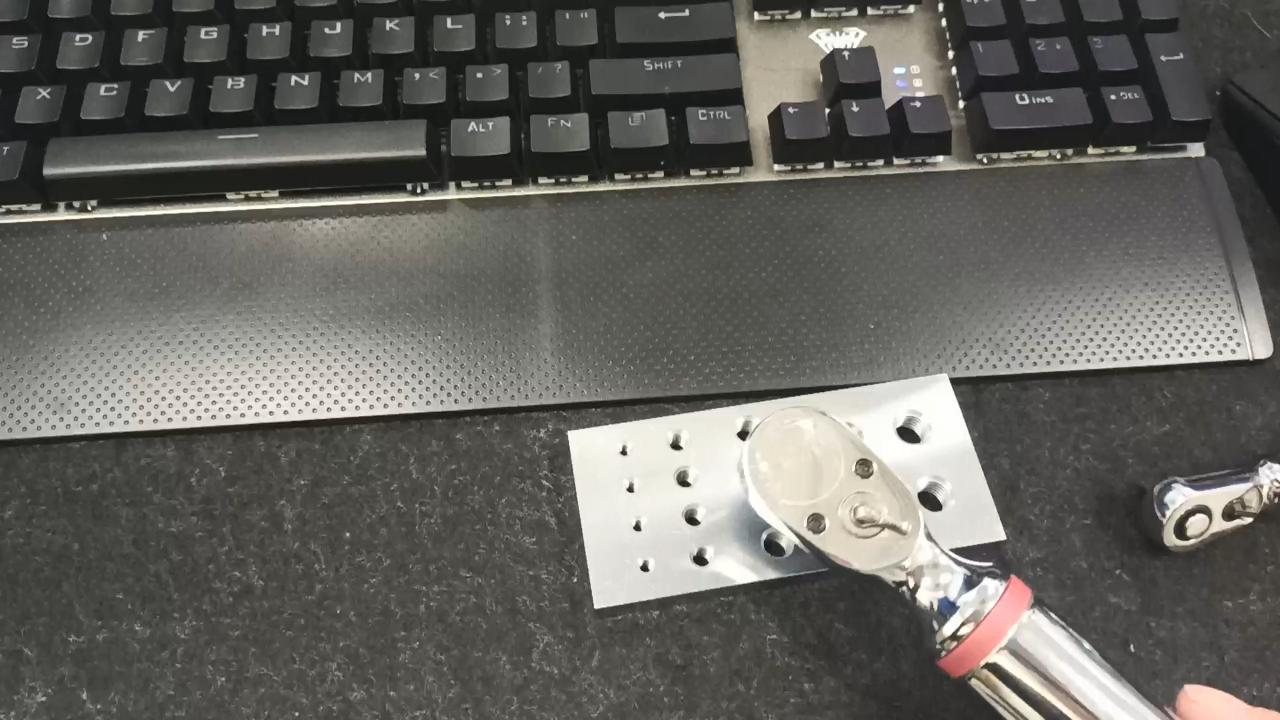Tool: (734, 406, 996, 652), (1132, 460, 1272, 560)
